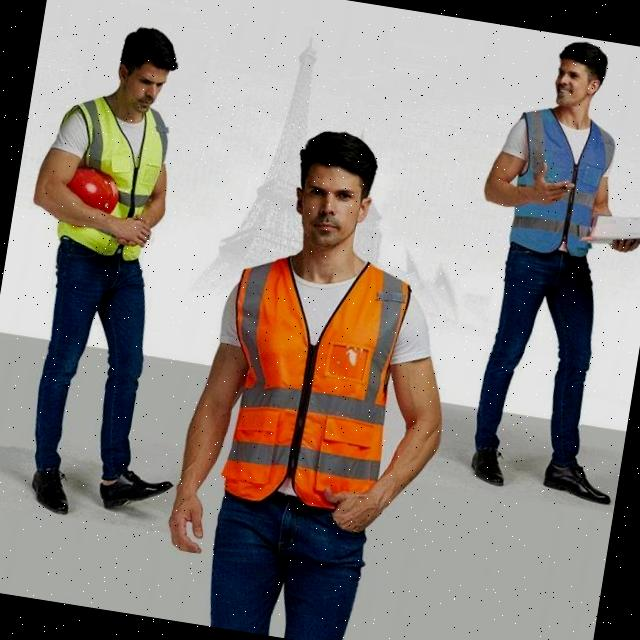vest: (213, 249, 416, 522), (59, 99, 182, 264), (502, 95, 622, 254)
